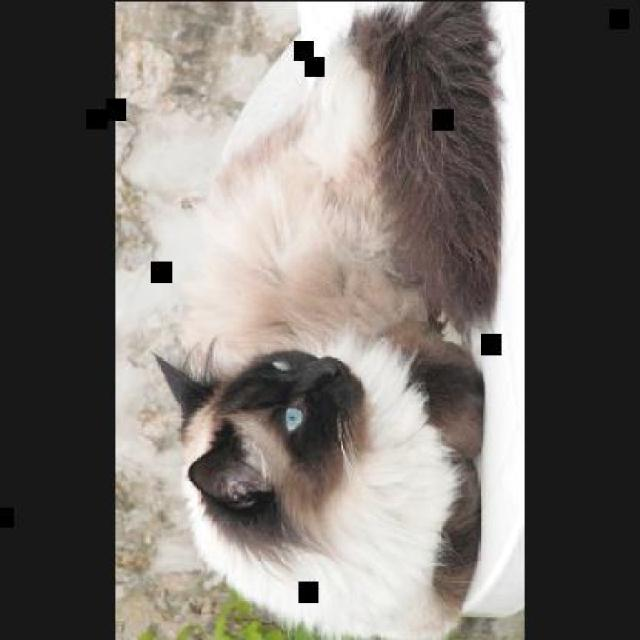unauthorized: (152, 0, 506, 638), (151, 322, 486, 638)
